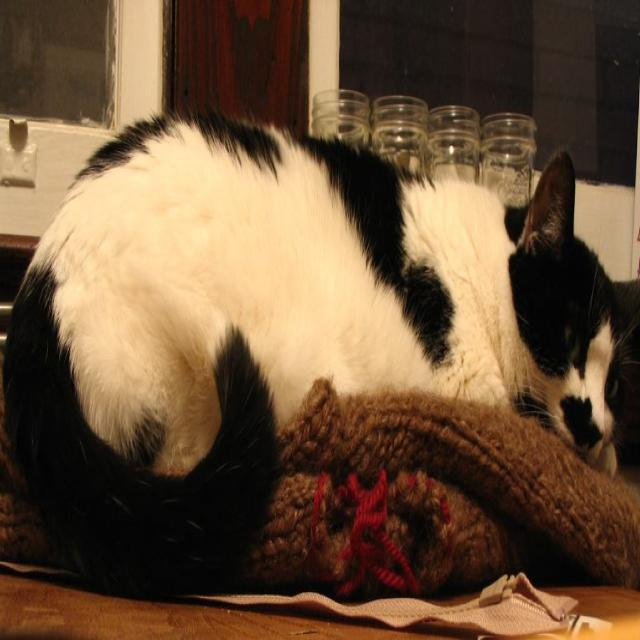Cat: (1, 95, 639, 594)
